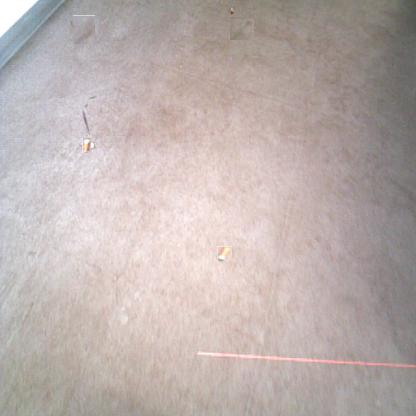dirty: (217, 246, 232, 261), (81, 139, 93, 152), (228, 4, 234, 14)
mark: (72, 17, 97, 43), (231, 18, 254, 40), (80, 109, 90, 135), (88, 94, 96, 102), (82, 102, 88, 110)
